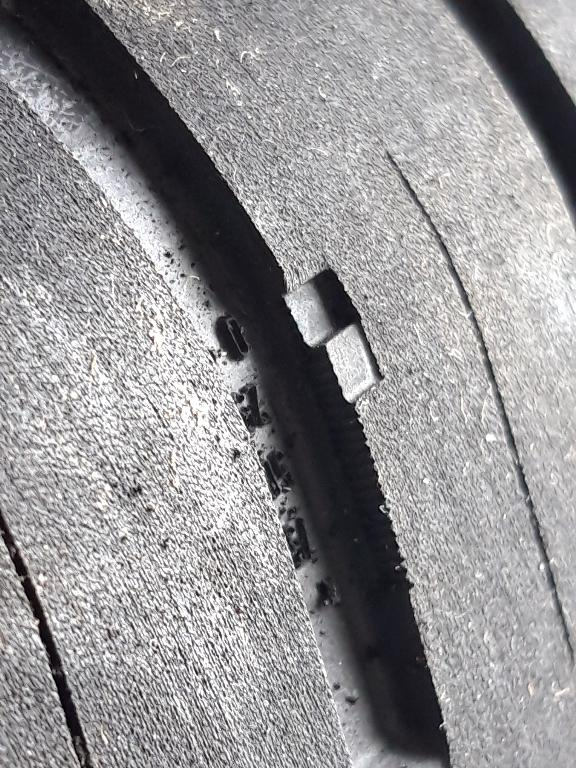temoin:25: (252, 254, 395, 433)
